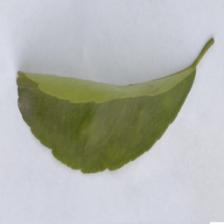healthy: (17, 38, 216, 176)
